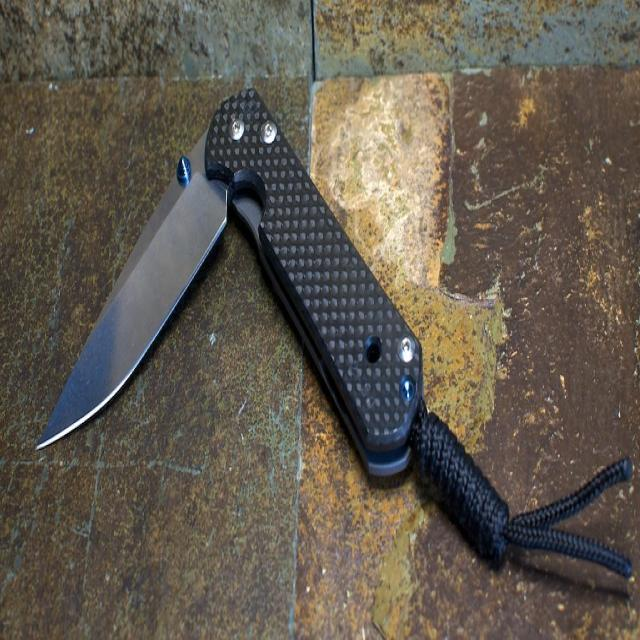Knife: (38, 89, 425, 478)
